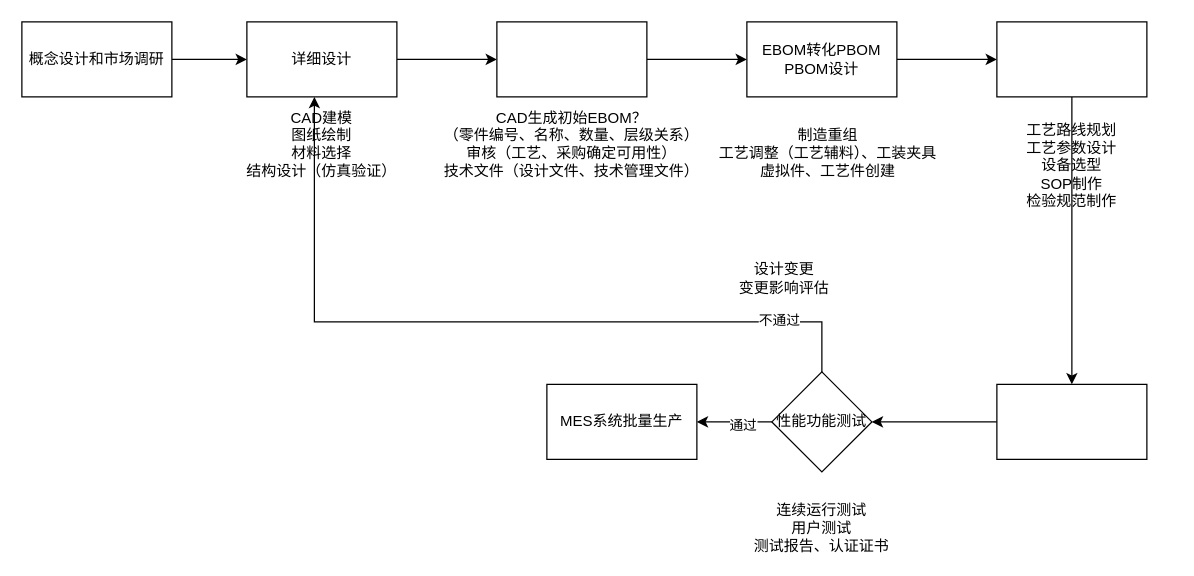
Image size: 1194x576. Some labels were removed from this diagram. The box of each missing label's shape, as (x1, y1, x2, y2) in pixels:
工艺路线、工艺 作业指导书: (996, 21, 1147, 97)
构建EBOM: (496, 21, 647, 97)
样机试制: (996, 383, 1147, 459)
